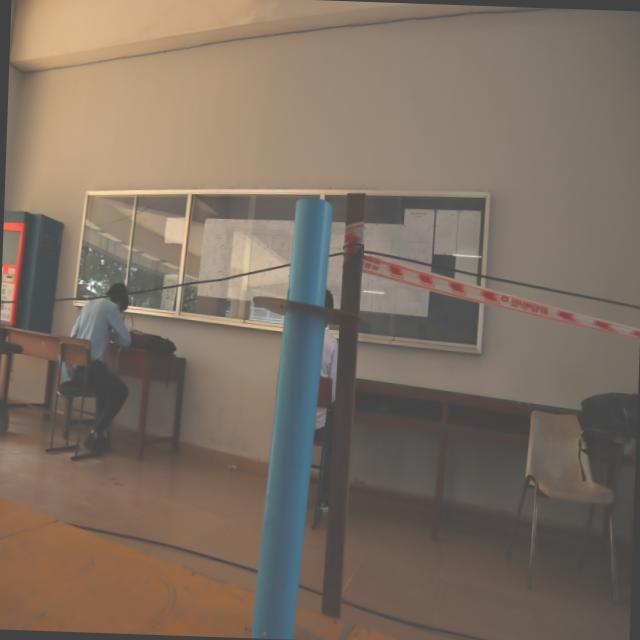pole: (243, 190, 364, 413)
